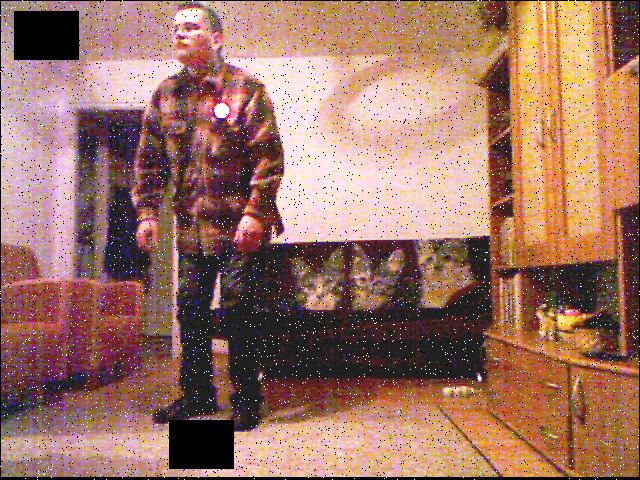bending: (122, 0, 303, 443)
